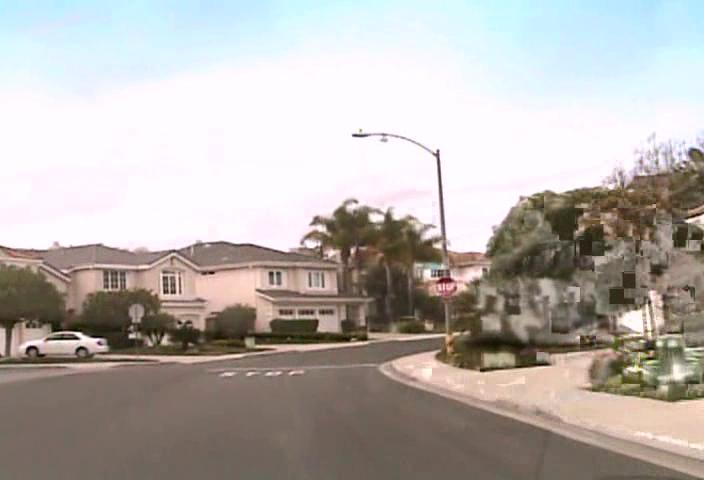stop: (435, 275, 457, 297)
